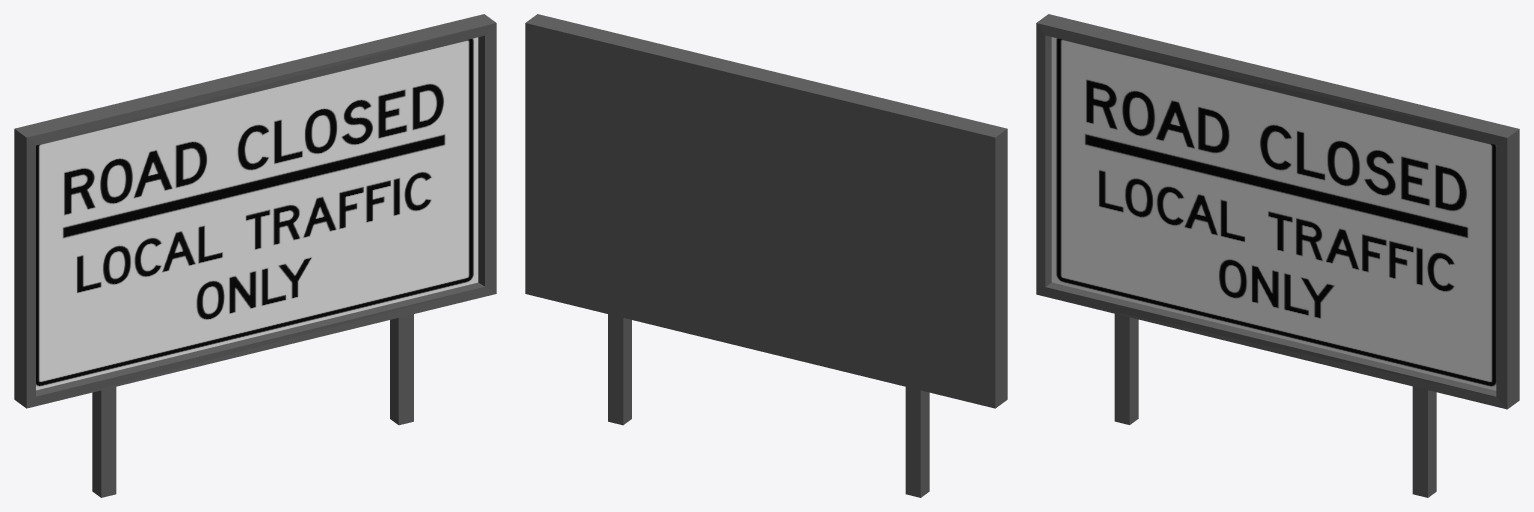
The model's file is RB_Sign.fbx.
3 renders of one model, left to right at view 1: azimuth 30°, elevation 25°; view 2: azimuth 150°, elevation 25°; view 3: azimuth 330°, elevation 25°, orthographic.
Parts seen in each view (by area): view 1: Board 16-9, Frame 16-9; view 2: Frame 16-9; view 3: Board 16-9, Frame 16-9.
Part boxes in pixels (box(x1,y1,x2,y2)): Board 16-9: box(36, 37, 478, 390); Frame 16-9: box(14, 14, 496, 497); Frame 16-9: box(525, 14, 1007, 497); Board 16-9: box(1051, 37, 1496, 390); Frame 16-9: box(1036, 14, 1519, 497).
Size of the model in its own units: 109 by 84.17 by 4.99.
2 materials, 1 textured.
